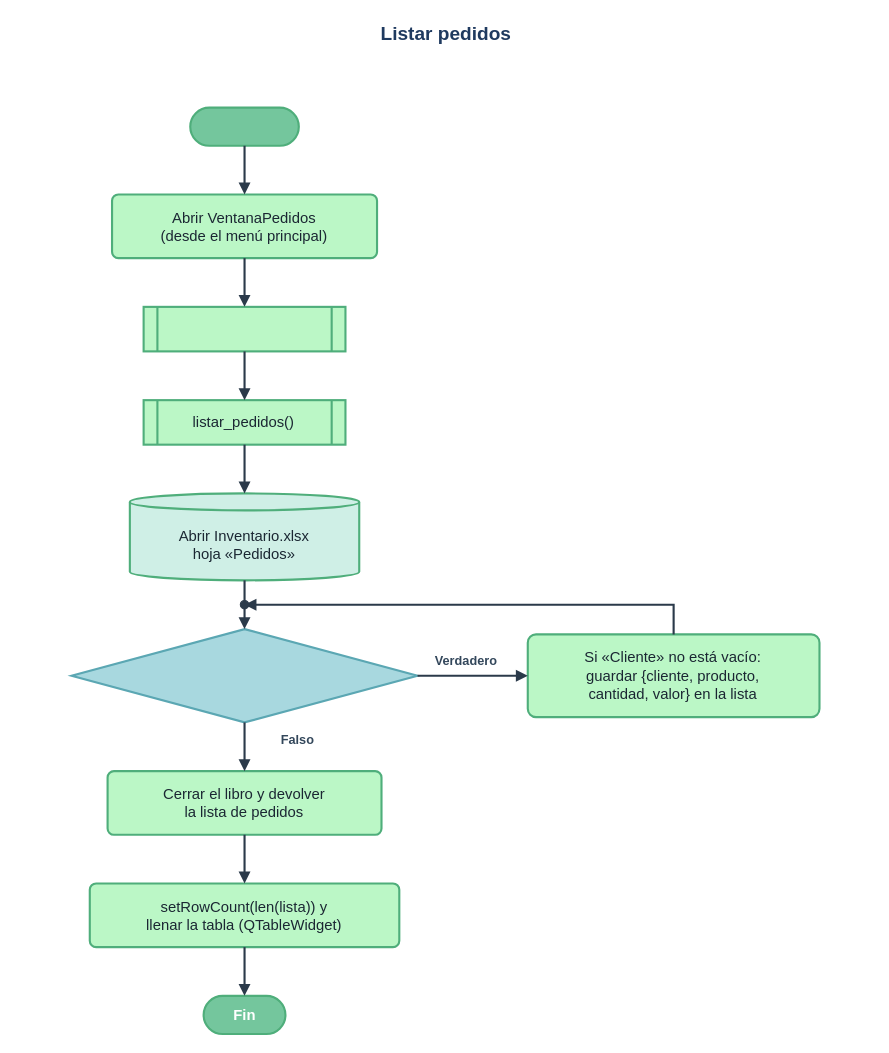
The diagram is 889 pixels wide and 1053 high, and some of its shapes have lost their labels. Here are the shapes that lost their labels. From the top down, the centre of each, then its label:
At pixel 244 126: "Inicio".
At pixel 244 328: "cargar_pedidos()".
At pixel 244 675: "¿Hay más filas (desde la fila 2)?".
